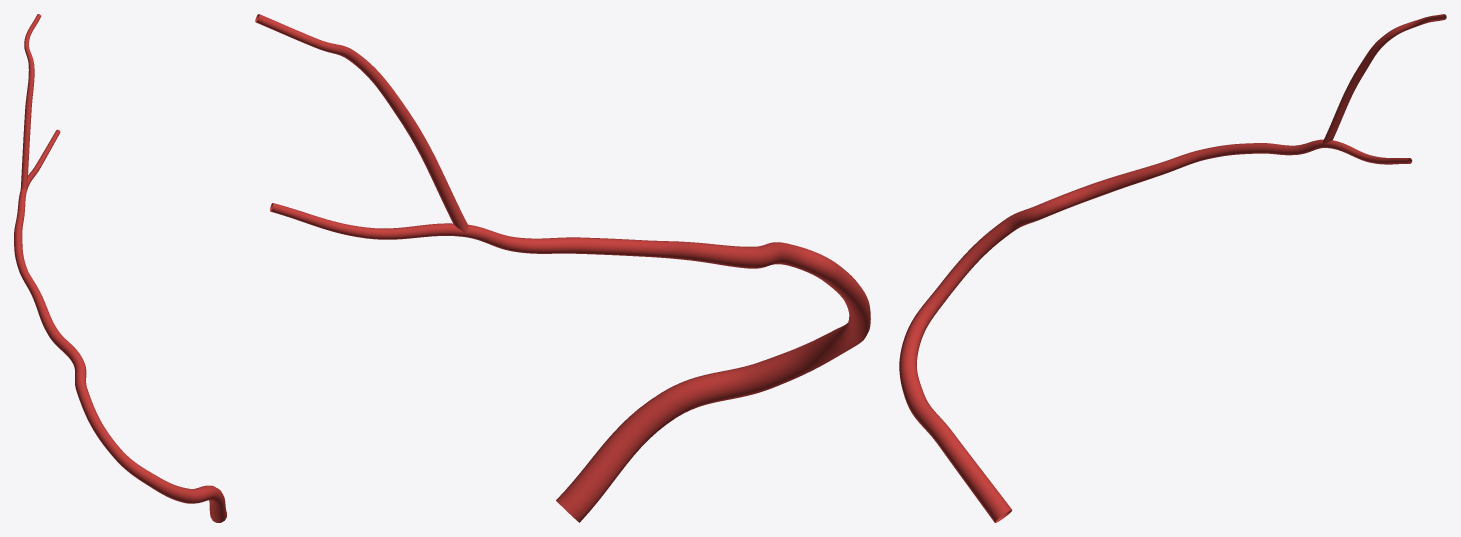
The picture shows the model from 3 angles, left to right: view 1: azimuth 30°, elevation 25°; view 2: azimuth 150°, elevation 25°; view 3: azimuth 270°, elevation 25°; orthographic projection. The views are drawn at different scales.
Visible parts, largest first — view 1: 右侧大脑中动脉颞支; view 2: 右侧大脑中动脉颞支; view 3: 右侧大脑中动脉颞支.
Part boxes in pixels (x1,y1,x2,y2): 右侧大脑中动脉颞支: (14,14,226,522); 右侧大脑中动脉颞支: (255,14,870,522); 右侧大脑中动脉颞支: (899,14,1446,522).
Size of the model in its own units: 0.0268 by 0.067 by 0.0661.
